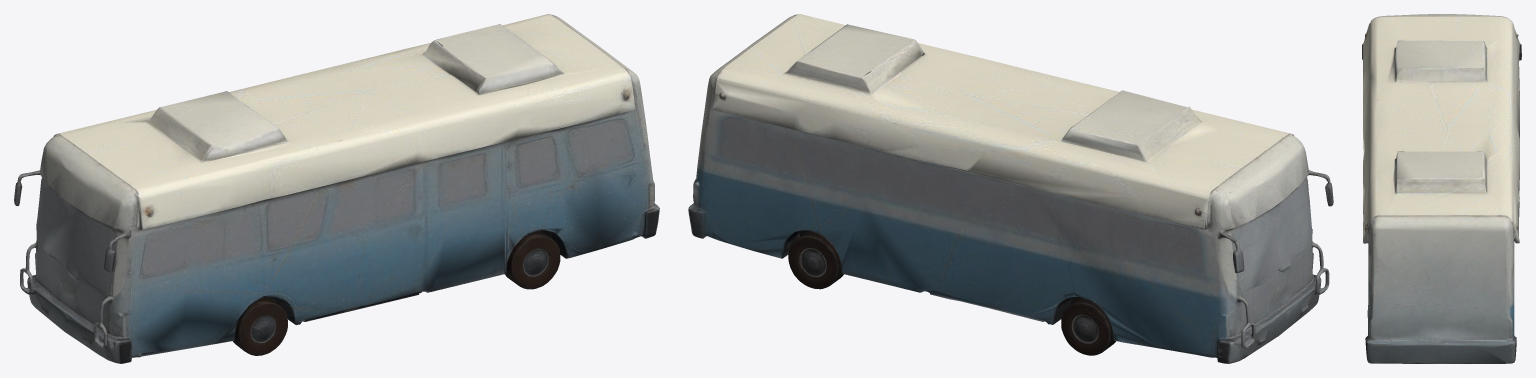
File: bus.glb
3 views of the same model, side by side, from view 1: azimuth 30°, elevation 25°; view 2: azimuth 150°, elevation 25°; view 3: azimuth 270°, elevation 25° (orthographic). The views are drawn at different scales.
Bounding box in the file's own units: 1.9 × 0.6725 × 0.5686.
Materials: 1 (1 with a texture image).
